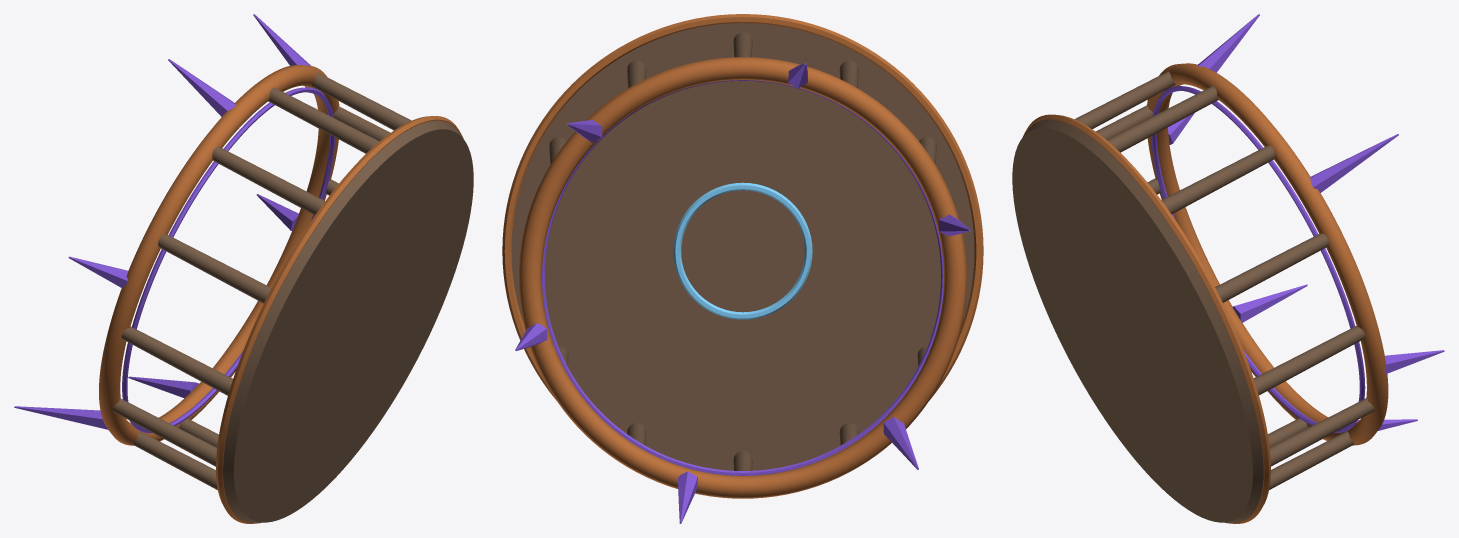
File: kristallobservatorium.obj
3 views of the same model, side by side, from view 1: azimuth 30°, elevation 25°; view 2: azimuth 150°, elevation 25°; view 3: azimuth 270°, elevation 25° (orthographic). The views are drawn at different scales.
Visible parts, largest first — view 1: Kristallobservatorium; view 2: Kristallobservatorium; view 3: Kristallobservatorium.
Part boxes in pixels (box(x1,y1,x2,y2)): Kristallobservatorium: box(14, 14, 473, 523); Kristallobservatorium: box(502, 14, 983, 523); Kristallobservatorium: box(1012, 14, 1444, 523).
Size of the model in its own units: 26.54 by 27 by 23.62.
